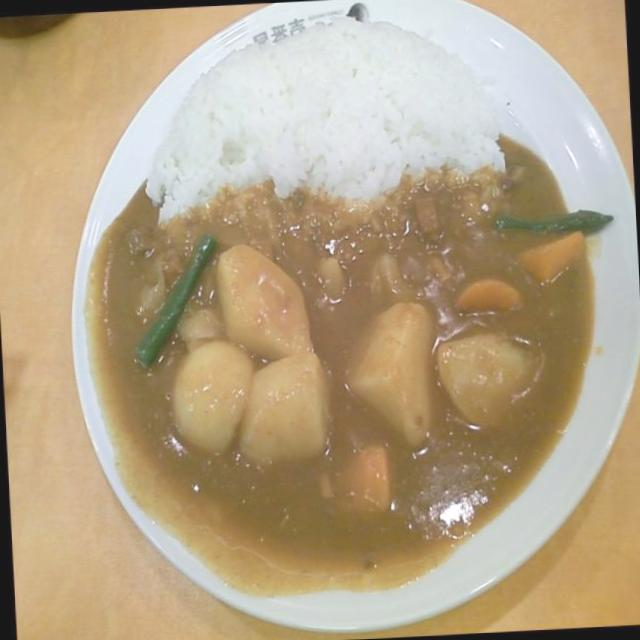Beef Curry: (61, 164, 618, 587)
Rice: (135, 6, 527, 201)
